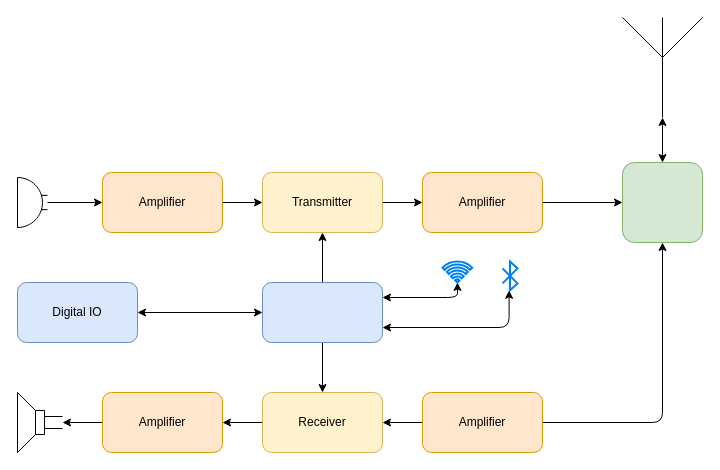
Some shapes in this 720 by 470 pixel diagram are drawn without their labels. The shapes that lost their labels are listed below. From the top down, each one's centre as x and y in pixels, then its label:
the point at 662,202: RX / TX Switch
the point at 322,312: ESP32 - S3
